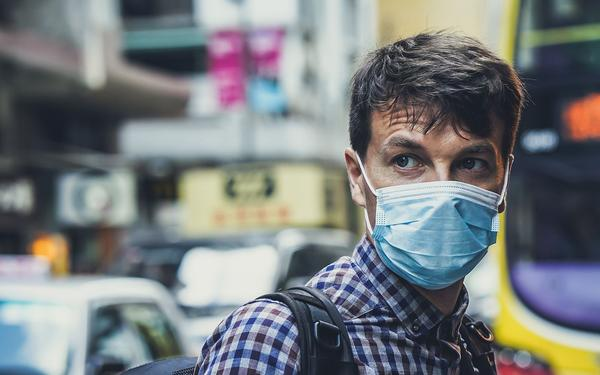surgical: (366, 173, 503, 291)
